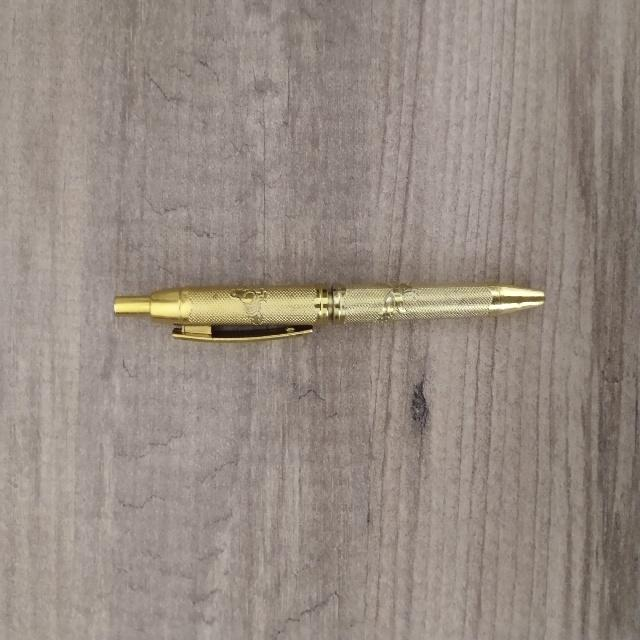signature pen: (114, 284, 544, 341)
